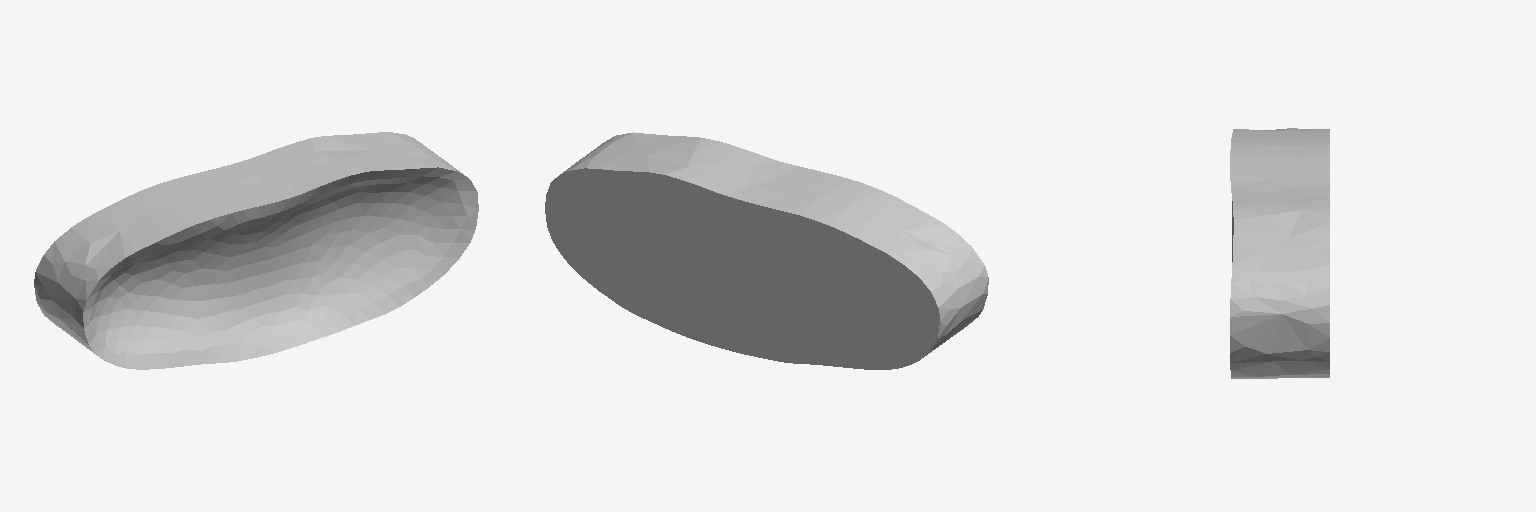
File: scan2_volume_v6_sc.obj
3 views of the same model, side by side, from view 1: azimuth 30°, elevation 25°; view 2: azimuth 150°, elevation 25°; view 3: azimuth 270°, elevation 25° (orthographic).
Bounding box in the file's own units: 266 × 103 × 58.